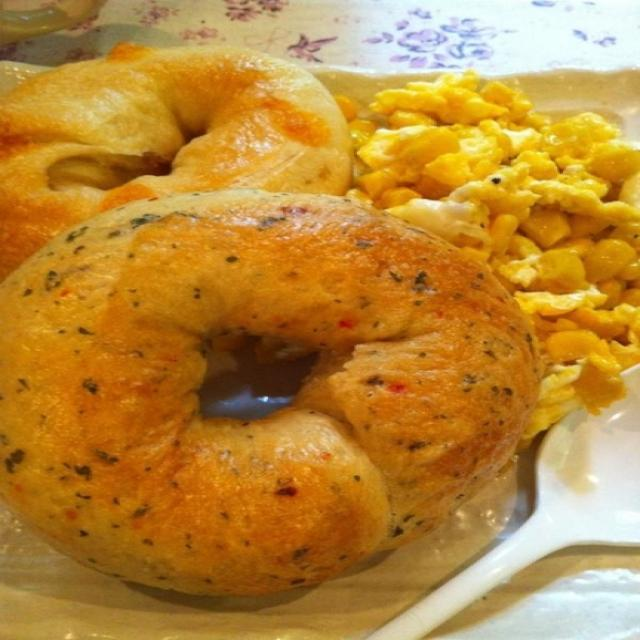面包点心: (15, 31, 579, 602)
